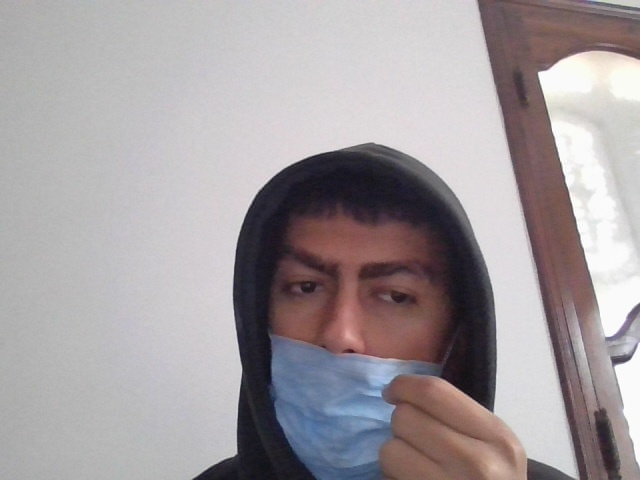mask_weared_incorrect: (267, 192, 457, 480)
